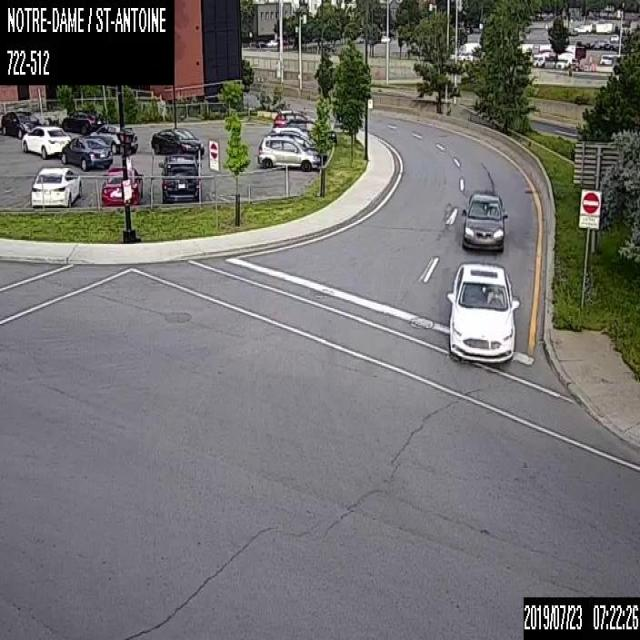vehicle: (446, 261, 519, 364), (462, 191, 507, 249), (30, 165, 81, 207), (158, 152, 200, 202), (257, 135, 319, 168), (61, 135, 112, 169), (20, 124, 70, 158), (100, 167, 142, 205), (150, 126, 203, 156), (90, 123, 138, 153), (285, 118, 335, 144), (62, 109, 105, 134), (1, 110, 41, 136), (269, 126, 313, 149), (273, 108, 307, 126)
